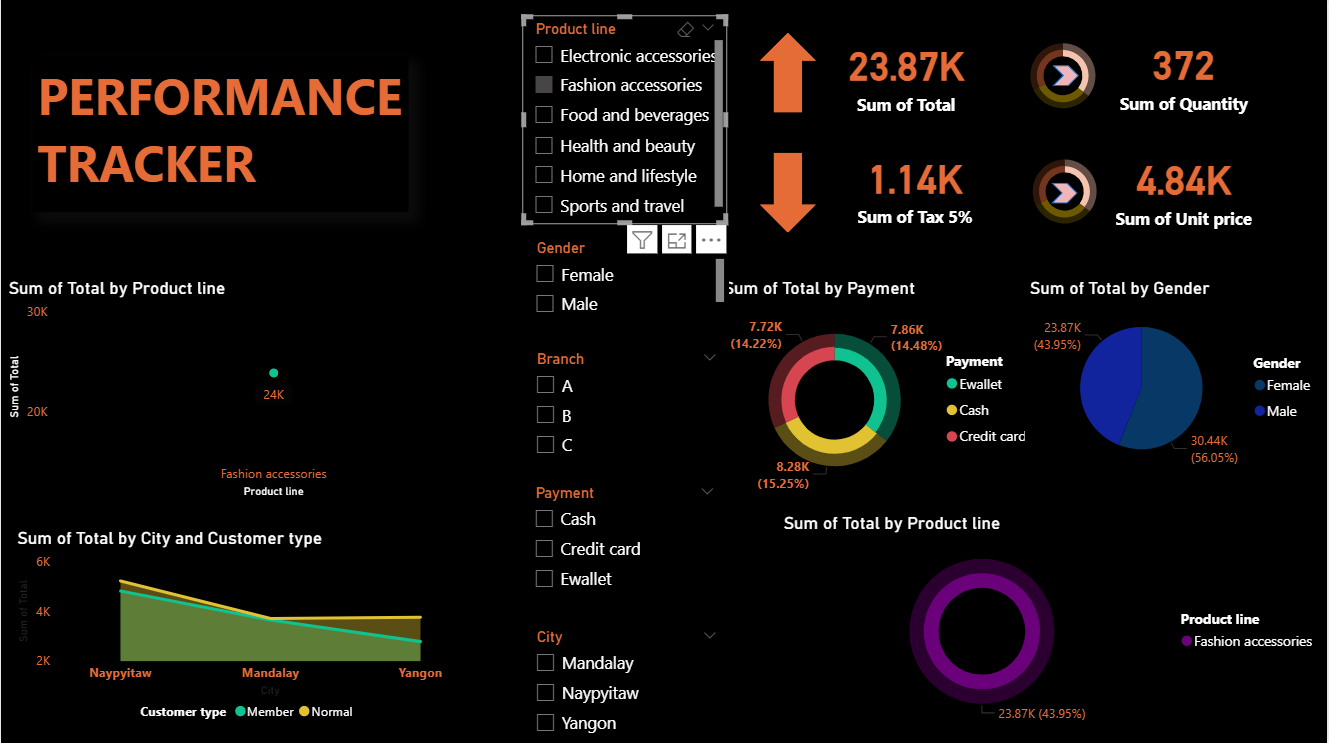

This screenshot's page, from the dashboard's own definition file:
{"tool":"powerbi","page":{"name":"Page 1","canvas":[1280,720],"ordinal":0},"visuals":[{"type":"donutChart","fields":{"Category":["performance data.Payment"],"Y":["Sum(performance data.Total)"]},"box":[692.9,268.6,311.4,217.1],"z":0},{"type":"pieChart","fields":{"Category":["performance data.Gender"],"Y":["Sum(performance data.Total)"]},"box":[988.6,268.6,291.4,194.3],"z":1000},{"type":"donutChart","fields":{"Category":["performance data.Product line"],"Y":["Sum(performance data.Total)"]},"box":[750,495.7,530,210],"z":2000},{"type":"areaChart","fields":{"Category":["performance data.Product line"],"Y":["Sum(performance data.Total)"]},"box":[2.9,268.6,474.3,217.1],"z":3000},{"type":"areaChart","fields":{"Category":["performance data.City"],"Y":["Sum(performance data.Total)"],"Series":["performance data.Customer type"]},"box":[11.4,510,457.1,195.7],"z":4000},{"type":"card","fields":{"Values":["Sum(performance data.Tax 5%)"]},"box":[744.3,124.3,275.7,114.3],"z":5000},{"type":"card","fields":{"Values":["Sum(performance data.Total)"]},"box":[735.7,15.7,275.7,114.3],"z":6000},{"type":"card","fields":{"Values":["Sum(performance data.Unit price)"]},"box":[1004.3,125.7,275.7,114.3],"z":7000},{"type":"card","fields":{"Values":["Sum(performance data.Quantity)"]},"box":[1003.3,14.7,275.7,114.3],"z":8000},{"type":"shape","box":[732.9,32.9,54.3,77.1],"z":9000},{"type":"shape","box":[732.9,148.6,54.3,77.1],"z":10000},{"type":"donutChart","fields":{"Y":["Sum(performance data.Total)"],"Category":["performance data.Payment"]},"box":[982.9,111.4,87.1,150],"z":11000},{"type":"shape","box":[1012.9,177.1,25.7,20],"z":12000},{"type":"donutChart","fields":{"Y":["Sum(performance data.Total)"],"Category":["performance data.Payment"]},"box":[981.4,0,88.6,148.6],"z":13000},{"type":"textbox","box":[30,55.7,362.9,150],"z":14000},{"type":"slicer","fields":{"Values":["performance data.Product line"]},"box":[502.9,15.7,198.6,201.4],"z":15000},{"type":"shape","box":[1014.3,64.3,25.7,20],"z":16000},{"type":"slicer","fields":{"Values":["performance data.Gender"]},"box":[504.3,227.1,198.6,82.9],"z":16001},{"type":"slicer","fields":{"Values":["performance data.Branch"]},"box":[504.3,334.3,198.6,91.4],"z":16002},{"type":"slicer","fields":{"Values":["performance data.Payment"]},"box":[502.9,442.9,198.6,124.3],"z":16003},{"type":"slicer","fields":{"Values":["performance data.City"]},"box":[504.3,567.1,198.6,118.6],"z":16004}]}

Visuals, with their boxes on the page's 1280x720 design canvas (x1, y1, x2, y2). These are canvas units, not pixel positions in the 1329x743 screenshot, which may show the page scaled, cropped or inside an application window:
donutChart - performance data.Payment x Sum(performance data.Total): 693 269 1004 486
pieChart - performance data.Gender x Sum(performance data.Total): 989 269 1280 463
donutChart - performance data.Product line x Sum(performance data.Total): 750 496 1280 706
areaChart - performance data.Product line x Sum(performance data.Total): 3 269 477 486
areaChart - performance data.City x Sum(performance data.Total): 11 510 468 706
card - Sum(performance data.Tax 5%): 744 124 1020 239
card - Sum(performance data.Total): 736 16 1011 130
card - Sum(performance data.Unit price): 1004 126 1280 240
card - Sum(performance data.Quantity): 1003 15 1279 129
shape: 733 33 787 110
shape: 733 149 787 226
donutChart - Sum(performance data.Total) x performance data.Payment: 983 111 1070 261
shape: 1013 177 1039 197
donutChart - Sum(performance data.Total) x performance data.Payment: 981 0 1070 149
textbox: 30 56 393 206
slicer - performance data.Product line: 503 16 702 217
shape: 1014 64 1040 84
slicer - performance data.Gender: 504 227 703 310
slicer - performance data.Branch: 504 334 703 426
slicer - performance data.Payment: 503 443 702 567
slicer - performance data.City: 504 567 703 686
